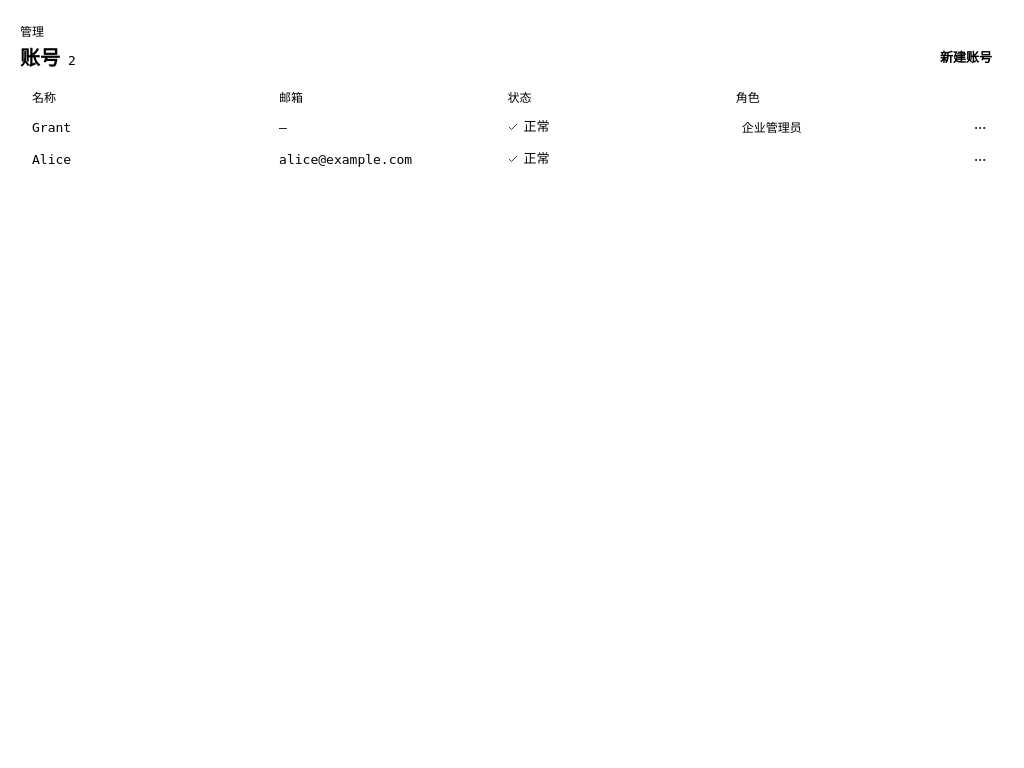
Test: /admin/accounts（ListPage） › 撤销最后一个企业管理员：显示 account.last_enterprise_admin 的文案，对话框保持打开
This screenshot has width=1024, height=768.
Click the button named "行操作" in the row of "Grant". click: (980, 128)
box: [968,116,992,140]
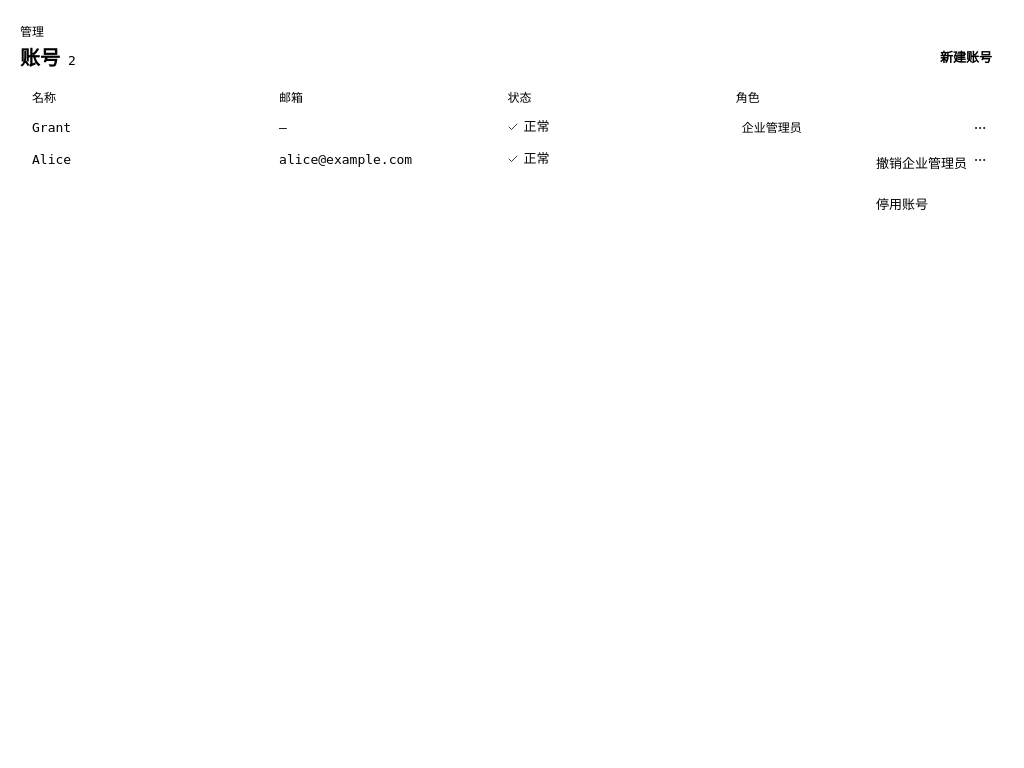
Click the menu item "撤销企业管理员". click: (922, 164)
box: [876,156,967,171]
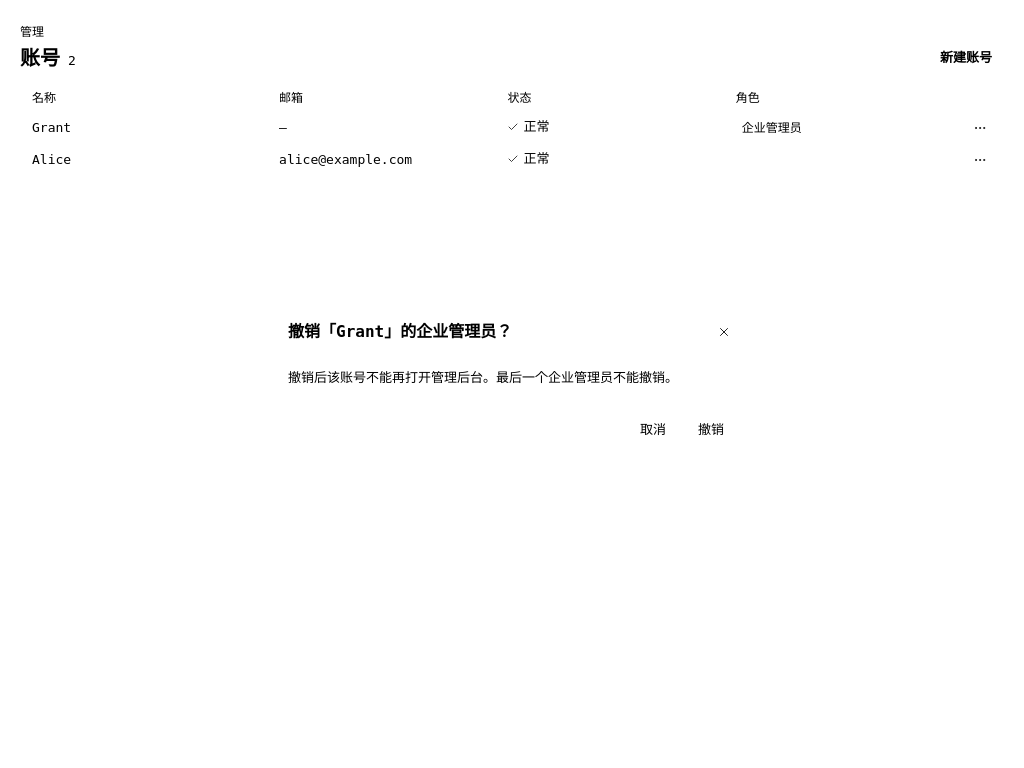
Click the button "撤销". click: (711, 430)
box: [686,416,736,444]
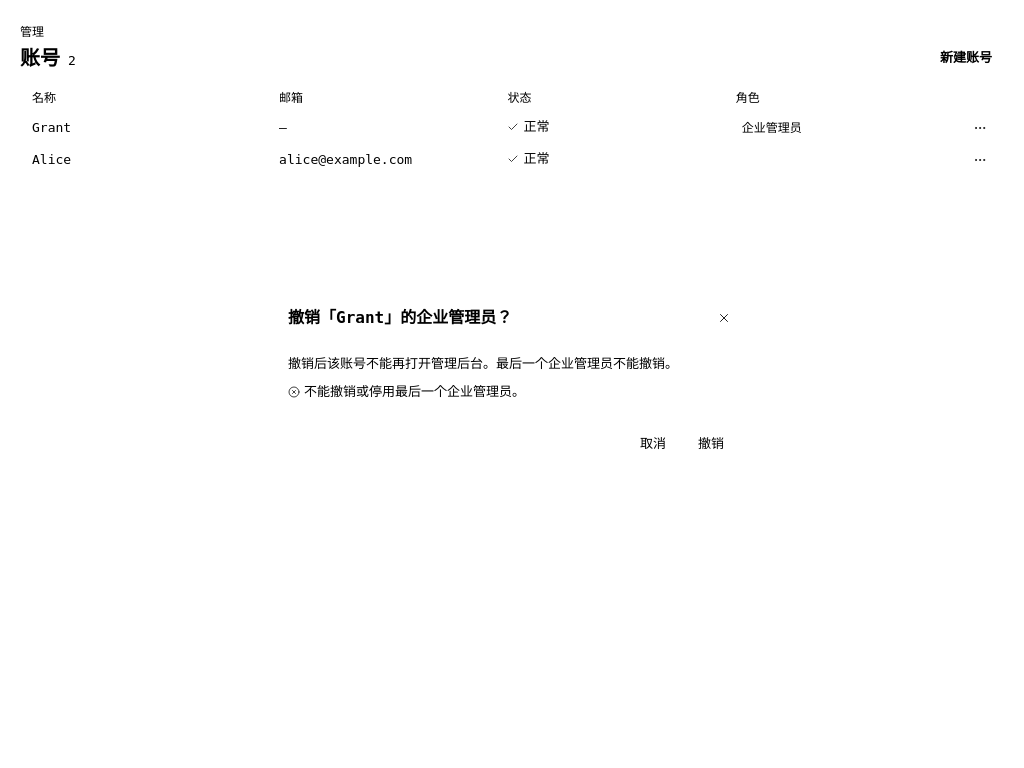
Expected: the text "不能撤销或停用最后一个企业管理员。" is shown, [288,384,525,399]
